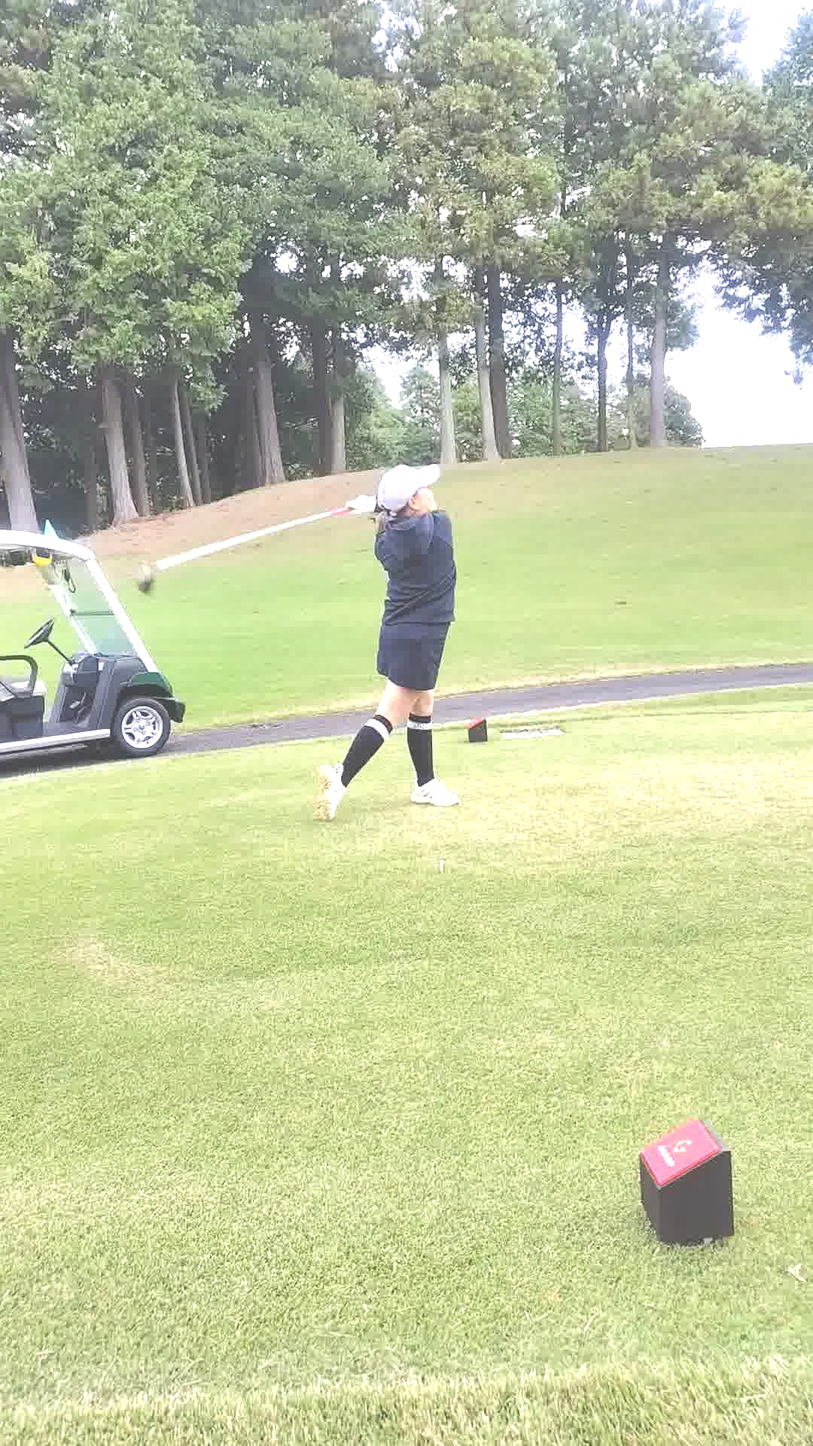clubhead: (86, 512, 236, 679)
